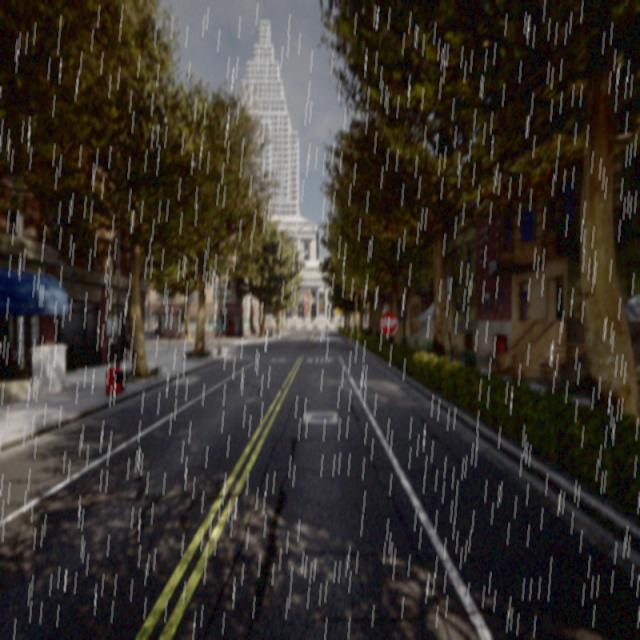stop sign: (378, 307, 400, 339)
